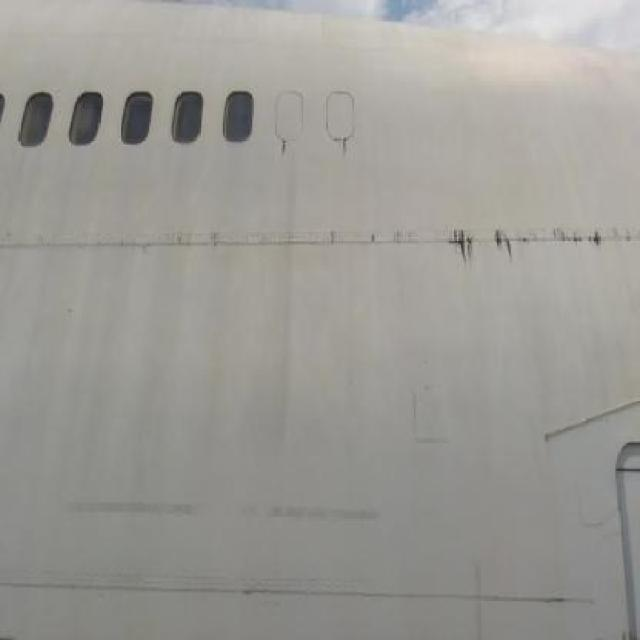Rust: (438, 209, 633, 271), (278, 138, 292, 160), (341, 141, 354, 161)
Scartch: (63, 479, 397, 543)
